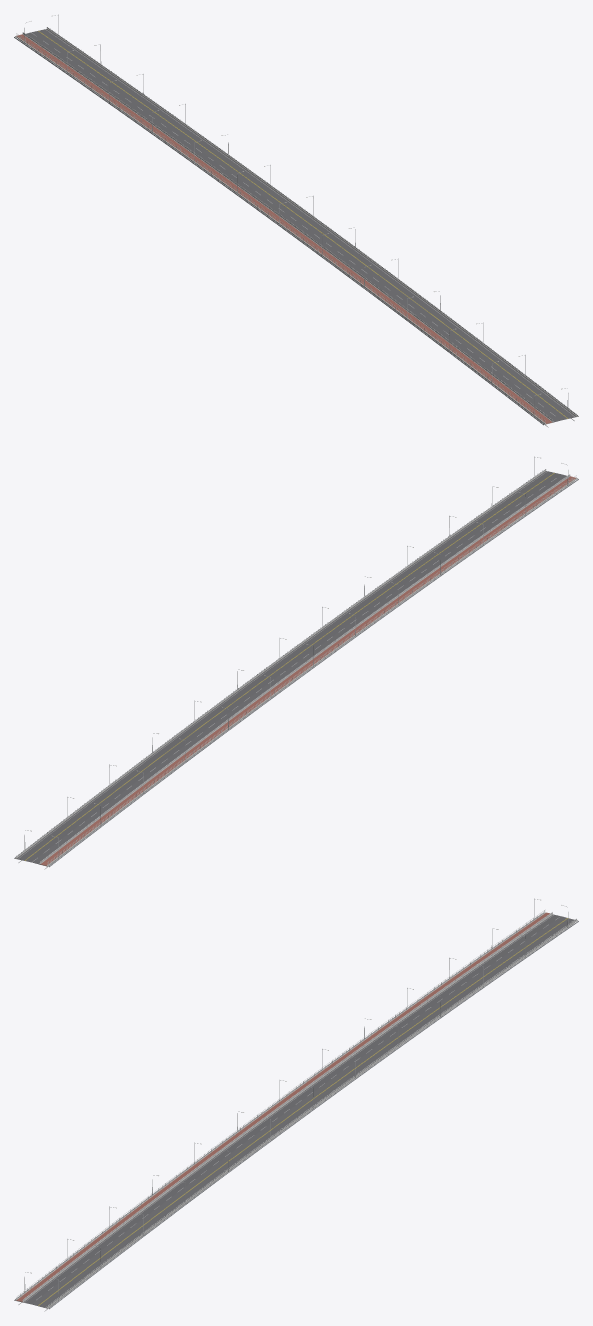
The model's file is FURNITURE.glb.
3 renders of one model, top to bottom at view 1: azimuth 30°, elevation 25°; view 2: azimuth 150°, elevation 25°; view 3: azimuth 330°, elevation 25°, orthographic.
Visible parts, largest first — view 1: 차도 아스팔트 T80, 칼라 아스콘 T70, 겸용울타리 타원레일, 현장타설블럭(난간), 현장타설블럭(동측), 점검차레일, 단부 업스탠드 t10 (서), 차량울타리 장공레일, 방호울타리 연석 상부, 자전거난간 가로대, 조명주 기둥; view 2: 차도 아스팔트 T80, 칼라 아스콘 T70, 겸용울타리 타원레일, 현장타설블럭(난간), 현장타설블럭(동측), 점검차레일, 단부 업스탠드 t10 (서), 차량울타리 장공레일, 방호울타리 연석 상부, 자전거난간 가로대, 조명주 기둥; view 3: 차도 아스팔트 T80, 칼라 아스콘 T70, 점검차레일, 겸용울타리 타원레일, 현장타설블럭(동측), 방호울타리 연석 상부, 현장타설블럭(난간), 단부 업스탠드 t10 (동), 단부 업스탠드 t10 (서), 차량울타리 타공판, 자전거난간 가로대, 차량울타리 장공레일 (+1 smaller).
Part boxes in pixels (x1=…): 차도 아스팔트 T80: x1=26, y1=29, x2=576, y2=422; 칼라 아스콘 T70: x1=17, y1=34, x2=552, y2=423; 겸용울타리 타원레일: x1=22, y1=32, x2=552, y2=421; 현장타설블럭(난간): x1=15, y1=36, x2=546, y2=424; 현장타설블럭(동측): x1=46, y1=28, x2=577, y2=416; 점검차레일: x1=15, y1=34, x2=577, y2=424; 단부 업스탠드 t10 (서): x1=14, y1=37, x2=543, y2=425; 차량울타리 장공레일: x1=46, y1=27, x2=576, y2=415; 방호울타리 연석 상부: x1=22, y1=34, x2=552, y2=422; 자전거난간 가로대: x1=16, y1=35, x2=545, y2=422; 조명주 기둥: x1=24, y1=14, x2=568, y2=416; 차도 아스팔트 T80: x1=16, y1=471, x2=566, y2=864; 칼라 아스콘 T70: x1=40, y1=476, x2=575, y2=865; 겸용울타리 타원레일: x1=40, y1=474, x2=570, y2=863; 현장타설블럭(난간): x1=46, y1=478, x2=577, y2=866; 현장타설블럭(동측): x1=15, y1=470, x2=546, y2=858; 점검차레일: x1=15, y1=476, x2=577, y2=866; 단부 업스탠드 t10 (서): x1=49, y1=479, x2=578, y2=867; 차량울타리 장공레일: x1=16, y1=469, x2=546, y2=857; 방호울타리 연석 상부: x1=40, y1=476, x2=570, y2=864; 자전거난간 가로대: x1=47, y1=477, x2=576, y2=864; 조명주 기둥: x1=24, y1=456, x2=568, y2=858; 차도 아스팔트 T80: x1=23, y1=914, x2=575, y2=1308; 칼라 아스콘 T70: x1=16, y1=912, x2=549, y2=1301; 점검차레일: x1=15, y1=913, x2=577, y2=1308; 겸용울타리 타원레일: x1=22, y1=912, x2=552, y2=1301; 현장타설블럭(동측): x1=46, y1=920, x2=577, y2=1308; 방호울타리 연석 상부: x1=22, y1=914, x2=552, y2=1302; 현장타설블럭(난간): x1=15, y1=912, x2=545, y2=1300; 단부 업스탠드 t10 (동): x1=49, y1=921, x2=578, y2=1309; 단부 업스탠드 t10 (서): x1=14, y1=913, x2=543, y2=1300; 차량울타리 타공판: x1=47, y1=919, x2=576, y2=1306; 자전거난간 가로대: x1=16, y1=911, x2=545, y2=1298; 차량울타리 장공레일: x1=47, y1=919, x2=576, y2=1306.
Size of the model in its own units: 17.12 by 14.43 by 449.
